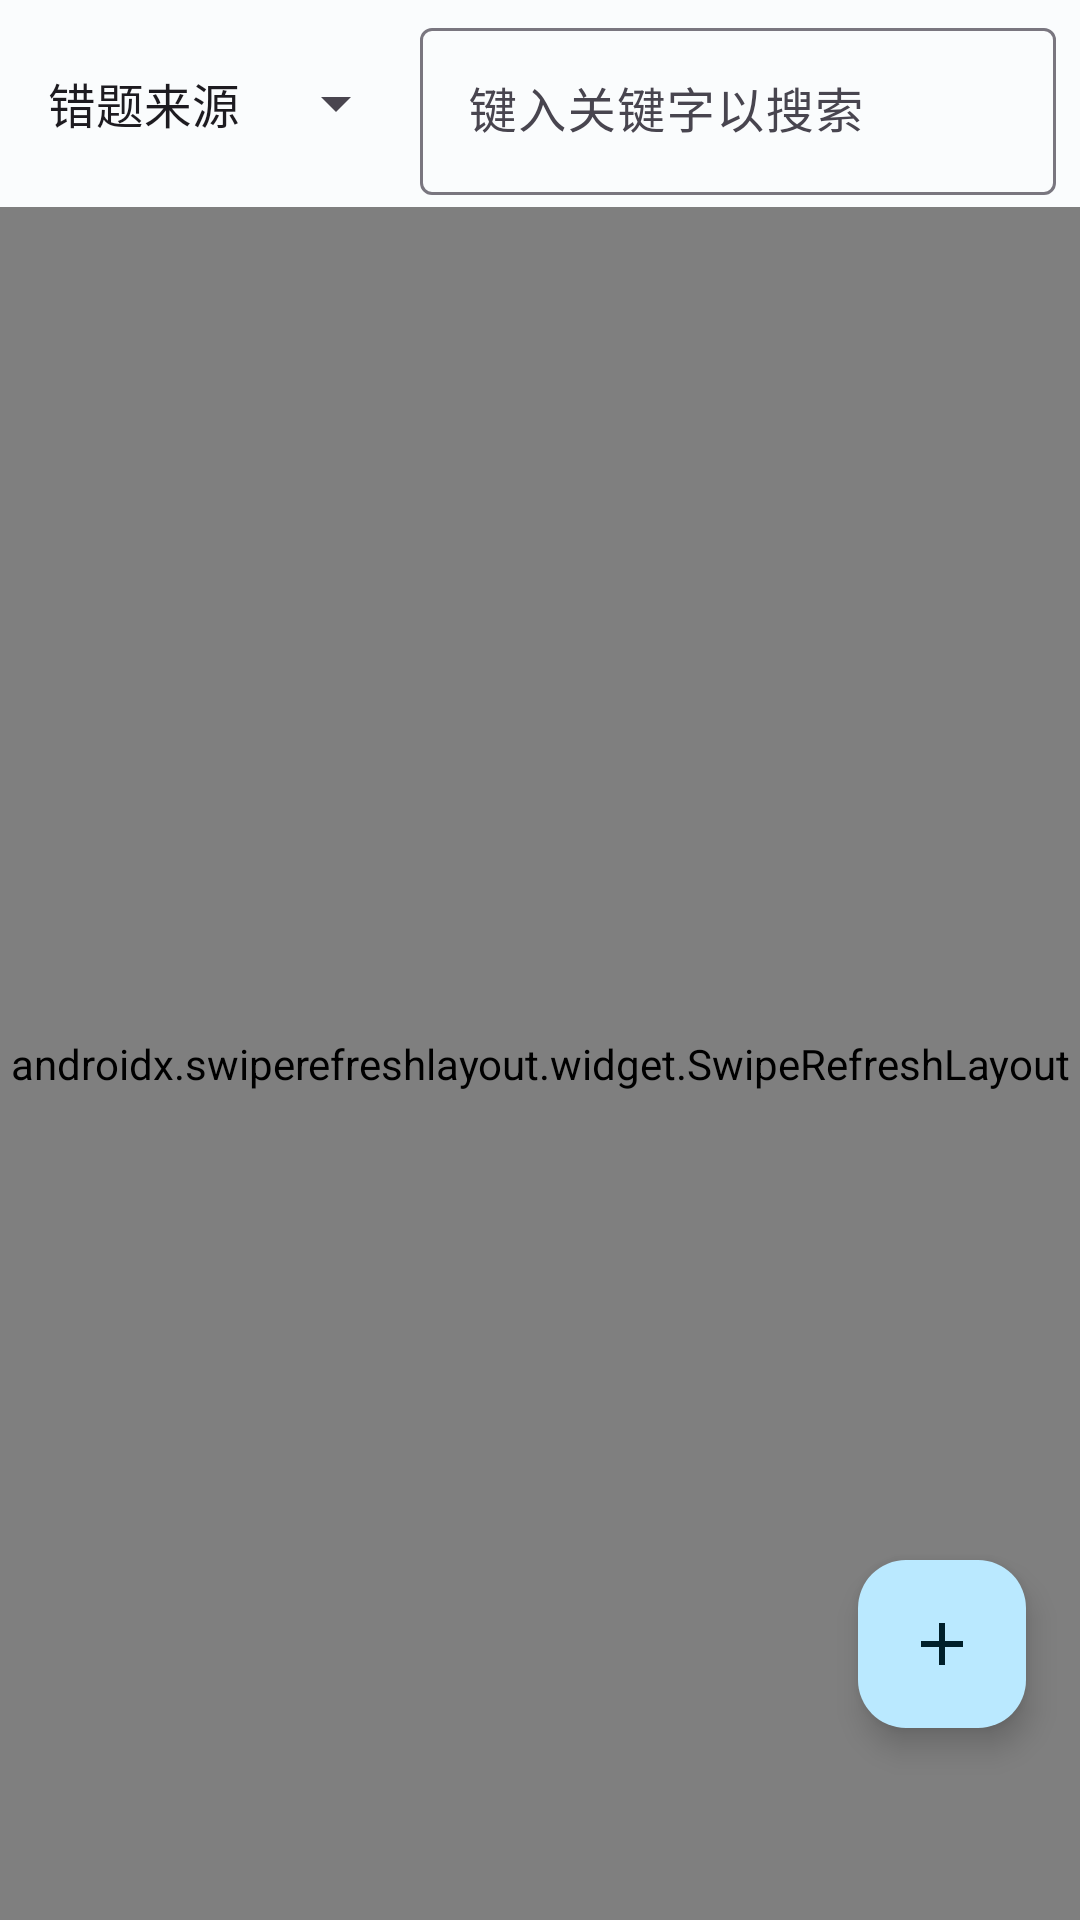

Icon bounding boxes for this 1080x1920 phone screenshot, format (x1, y1, x2, y2):
add: (858, 1560, 1026, 1728)
